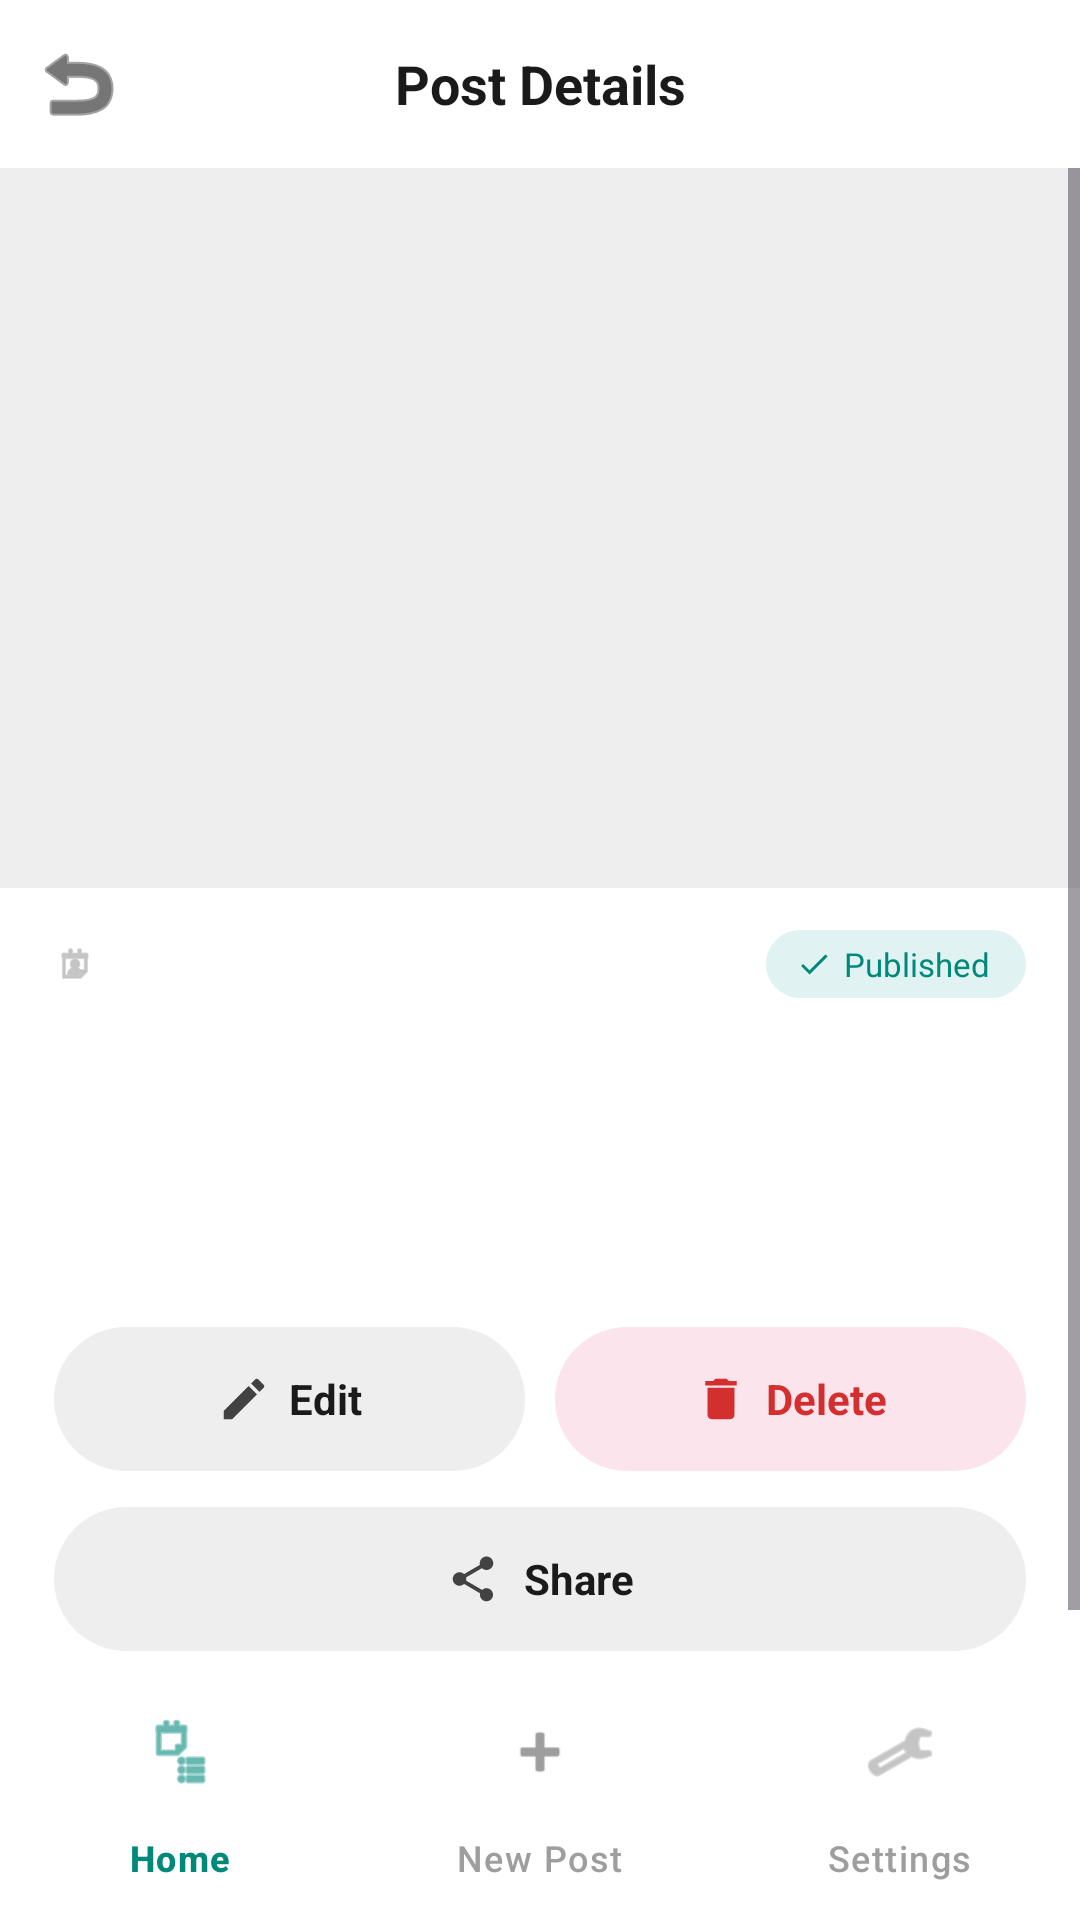

Icon bounding boxes for this 1080x1920 phone screenshot, format bbox(x1, y1, x2, y2):
back: bbox(45, 53, 114, 116)
date: bbox(62, 948, 88, 979)
